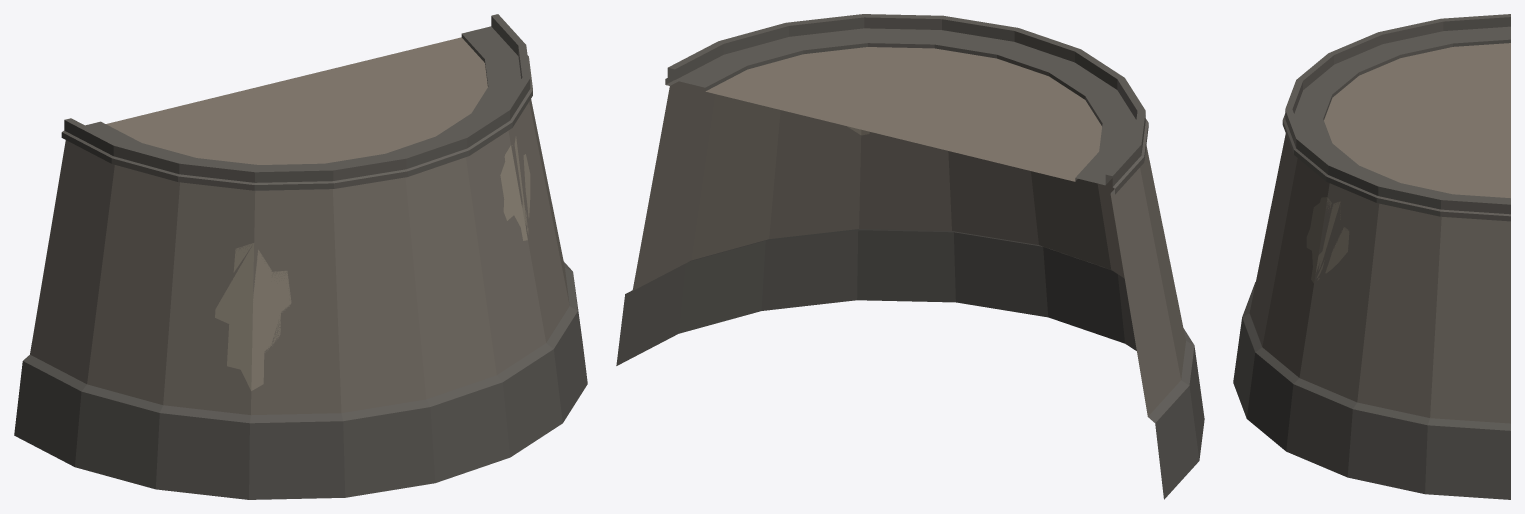
File: SM_Bld_Fort_Base_Circle_03.glb
3 renders of one model, left to right at view 1: azimuth 30°, elevation 25°; view 2: azimuth 150°, elevation 25°; view 3: azimuth 270°, elevation 25°, orthographic. The views are drawn at different scales.
Visible parts, largest first — view 1: SM_Bld_Fort_Base_Circle_03_part00; view 2: SM_Bld_Fort_Base_Circle_03_part00; view 3: SM_Bld_Fort_Base_Circle_03_part00.
Part boxes in pixels (box(x1,y1,x2,y2)): SM_Bld_Fort_Base_Circle_03_part00: box(14, 14, 587, 499); SM_Bld_Fort_Base_Circle_03_part00: box(616, 14, 1204, 499); SM_Bld_Fort_Base_Circle_03_part00: box(1233, 14, 1510, 499).
Size of the model in its own units: 19.42 by 10.54 by 9.71.
1 material, 1 textured.
